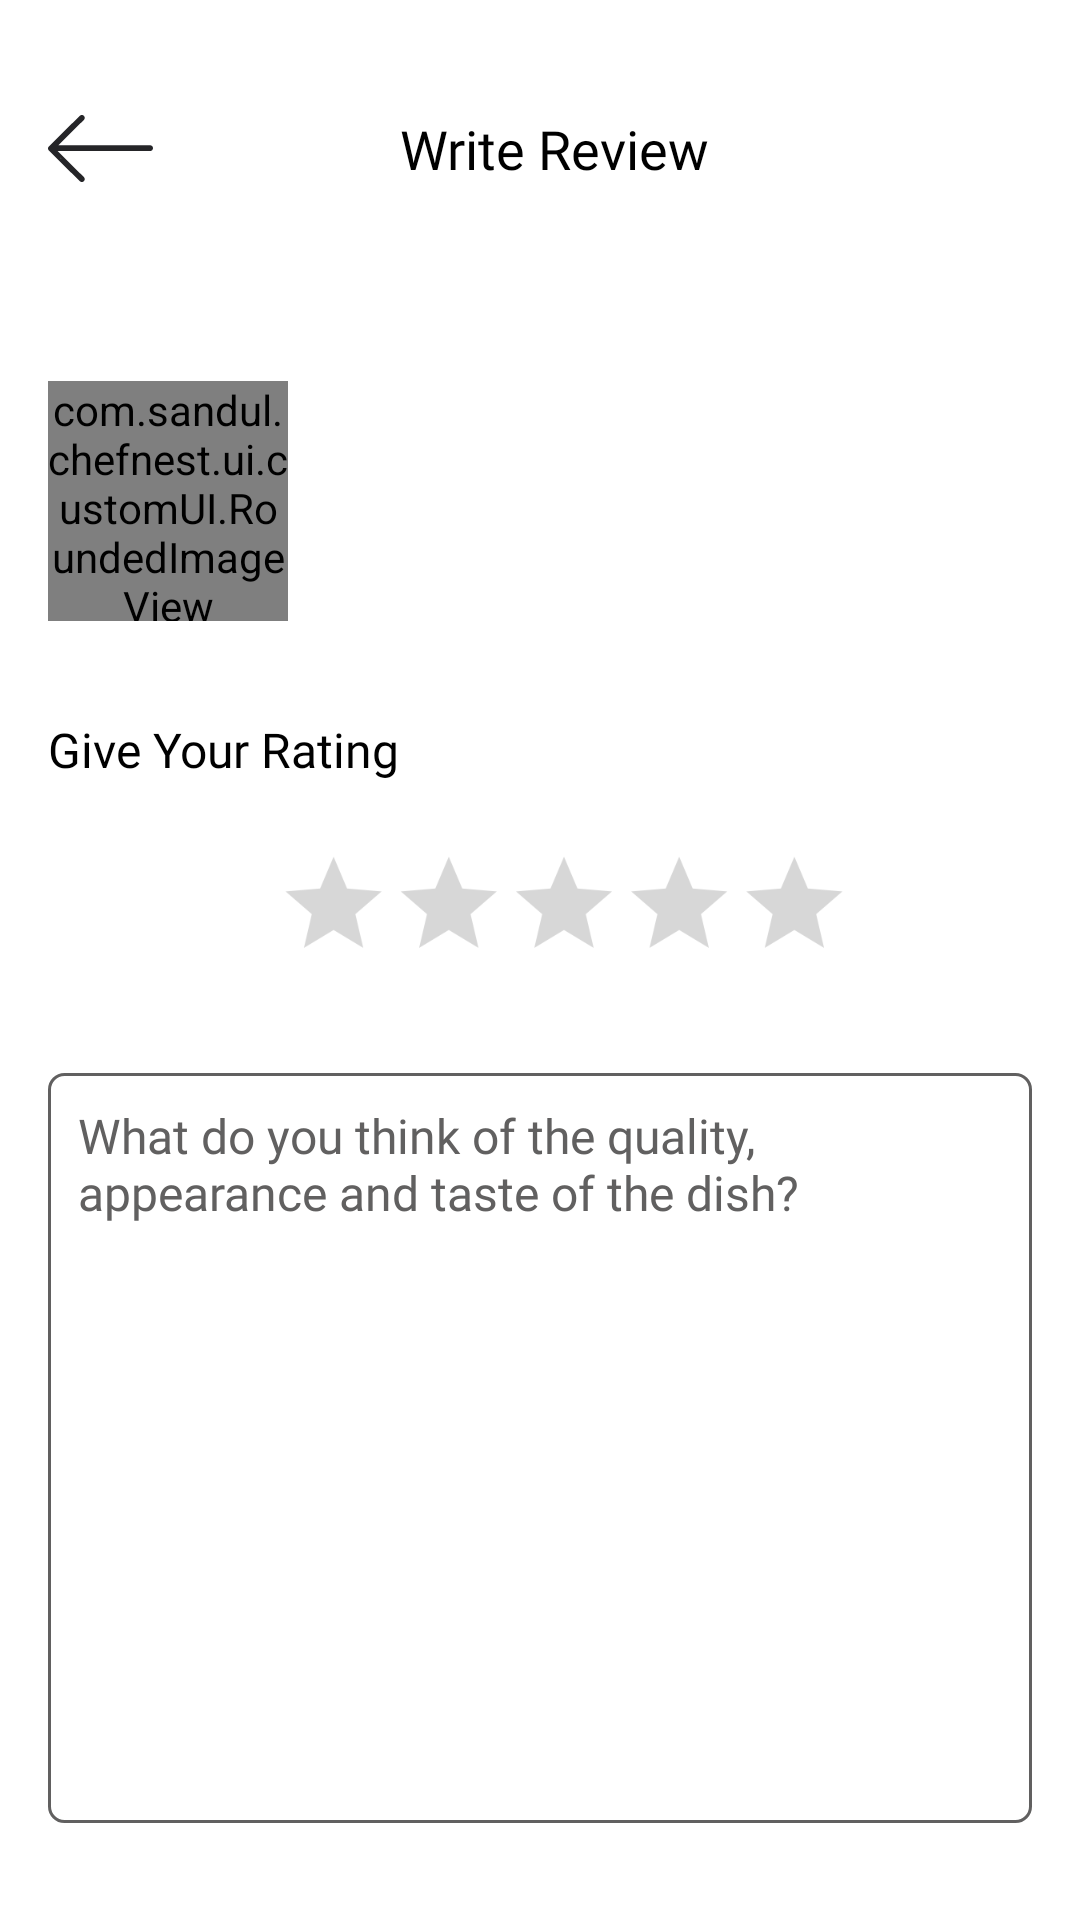

Screen size 1080 x 1920. Icon name, then its box in pixels as (x1, y1, x2, y2):
left arrow: (48, 115, 153, 182)
